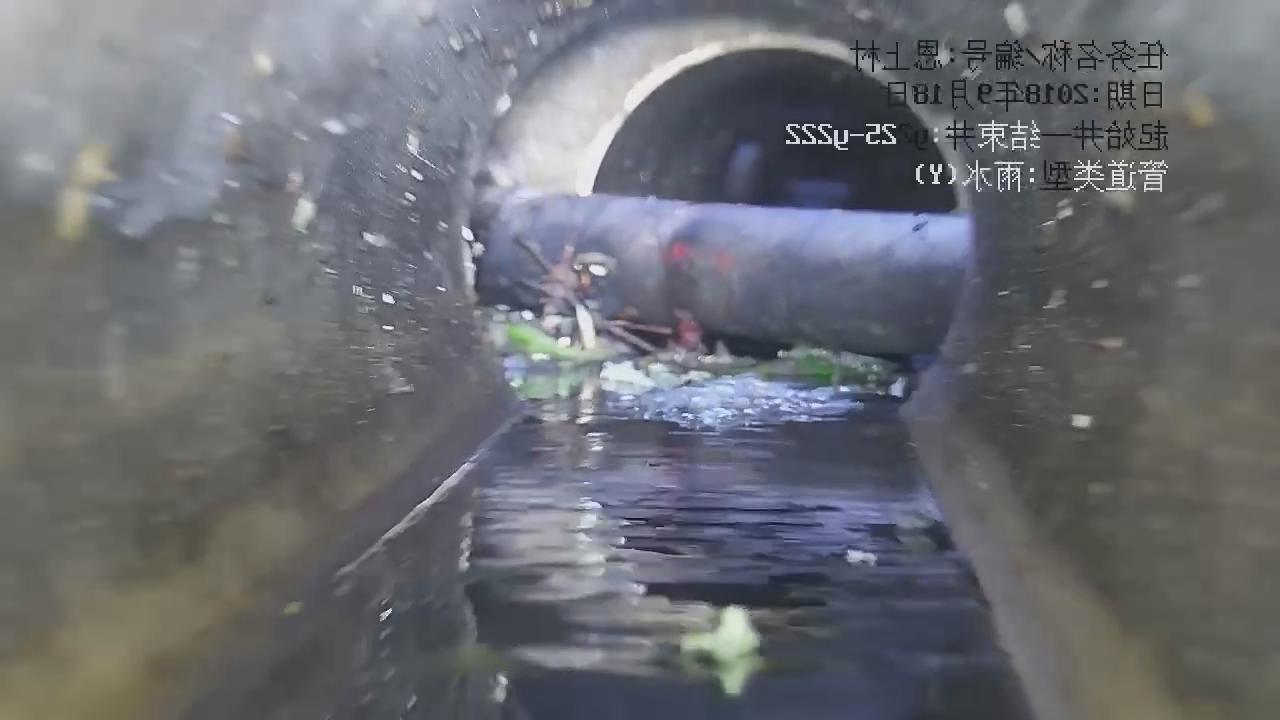CJ: (481, 302, 907, 429)
YWCR: (477, 194, 971, 361)
